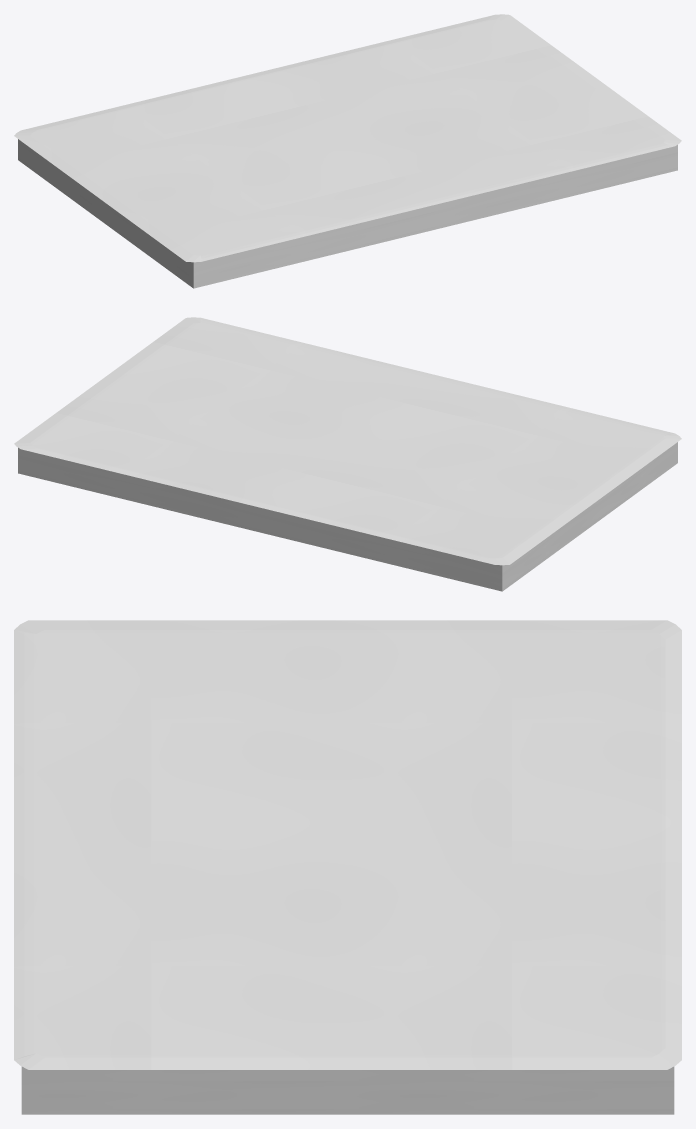
File: bandeja.glb
The picture shows the model from 3 angles, top to bottom: view 1: azimuth 30°, elevation 25°; view 2: azimuth 150°, elevation 25°; view 3: azimuth 270°, elevation 25°; orthographic projection. The views are drawn at different scales.
Visible parts, largest first — view 1: Cube; view 2: Cube; view 3: Cube.
Part boxes in pixels (x1,y1,x2,y2): Cube: [14, 14, 681, 288]; Cube: [14, 317, 681, 591]; Cube: [14, 620, 681, 1114].
Bounding box in the file's own units: 3.3 × 0.1761 × 2.07.
1 material, 1 textured.
